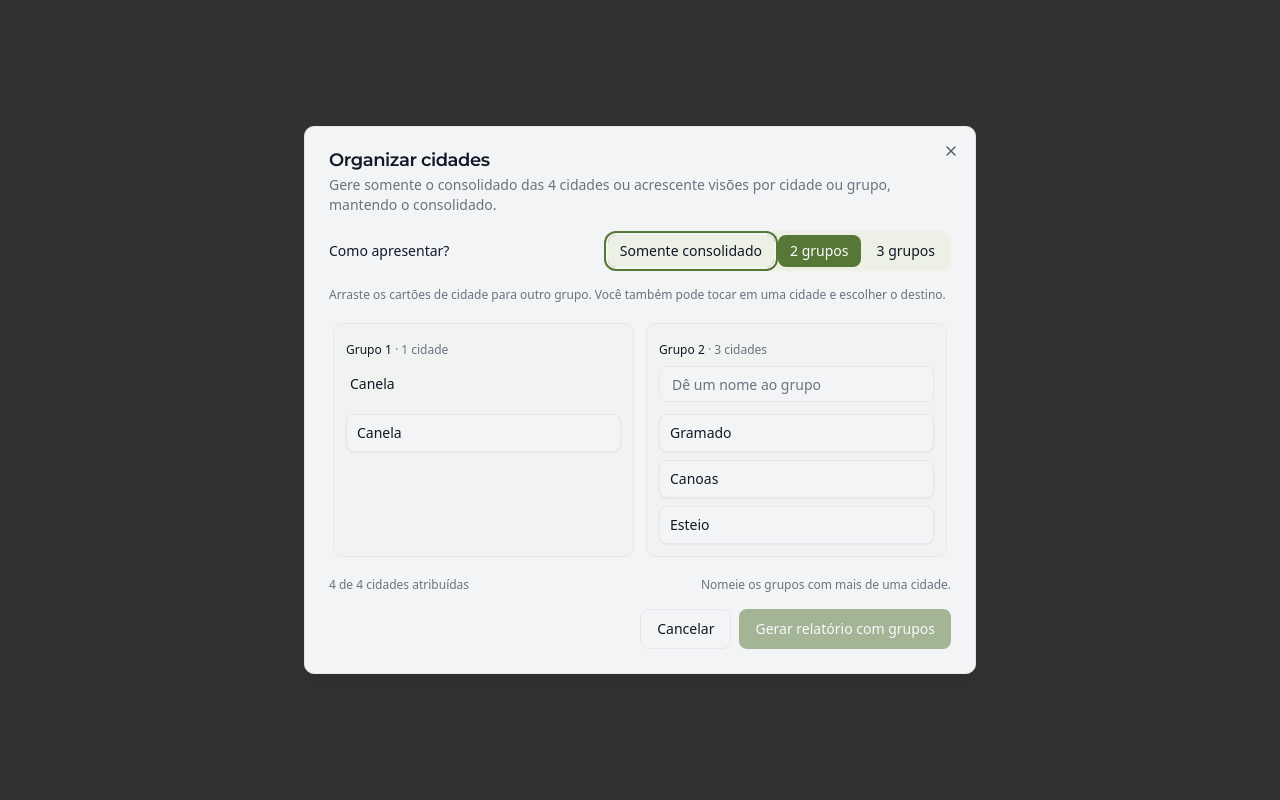
grupos no relatório único › cada cidade fica em um grupo; grupos vazios impedem confirmar e cancelar não gera
This screenshot has width=1280, height=800.
Later steps or results of the test are not shown.
Click the button with aria-label "Mover Canela" at x=379, y=432, box [346,414,621,452]
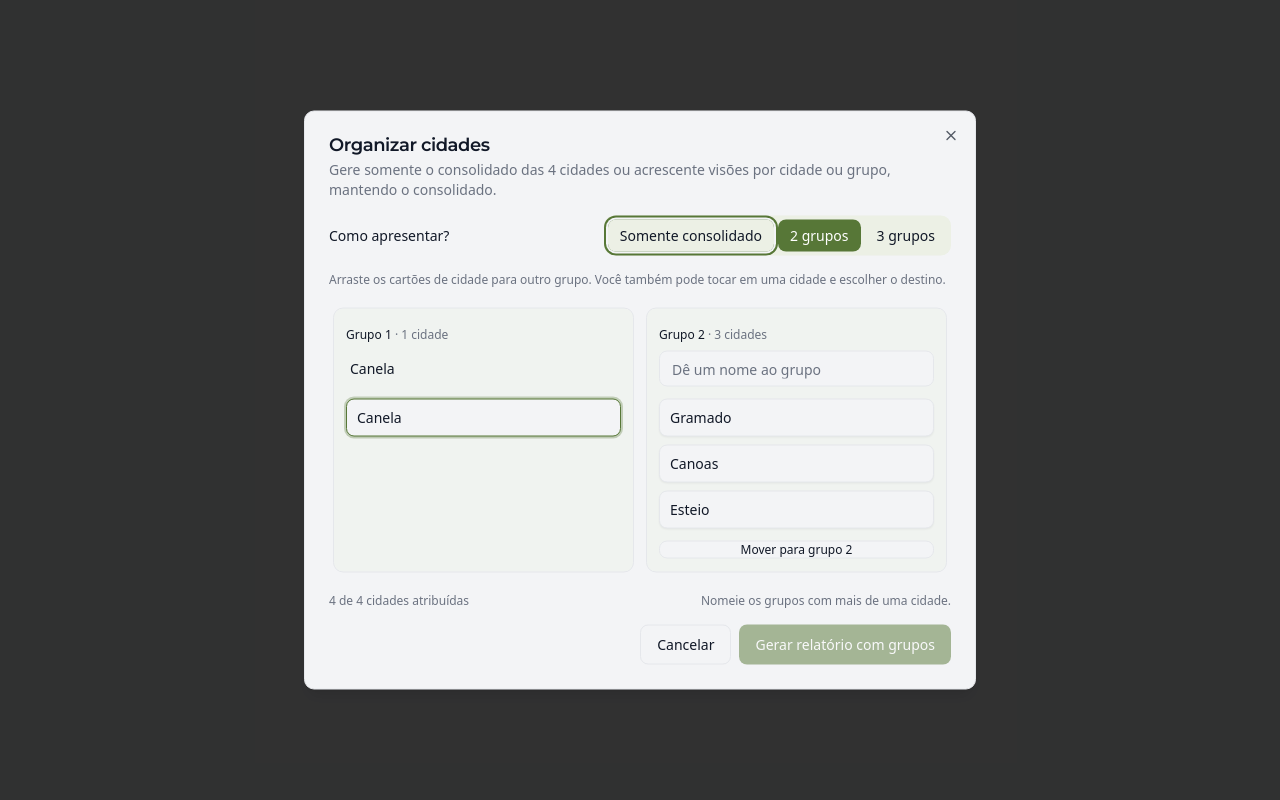
Click the button "Mover para grupo 2" at x=796, y=550, box [659,540,934,558]
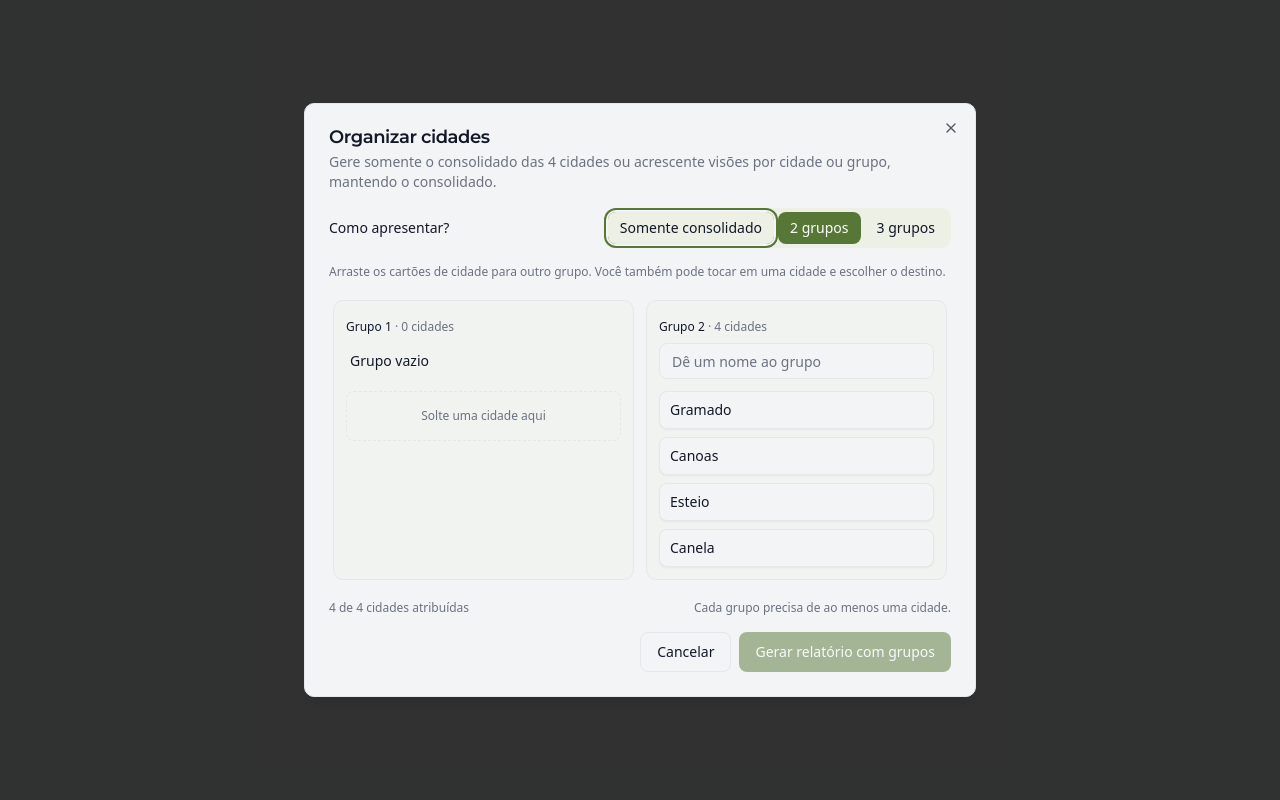
Check: the button "Gerar relatório com grupos" is disabled, box [740,632,951,672]
Check: the text "Cada grupo precisa de ao menos uma cidade." is shown, box [694,600,951,616]
